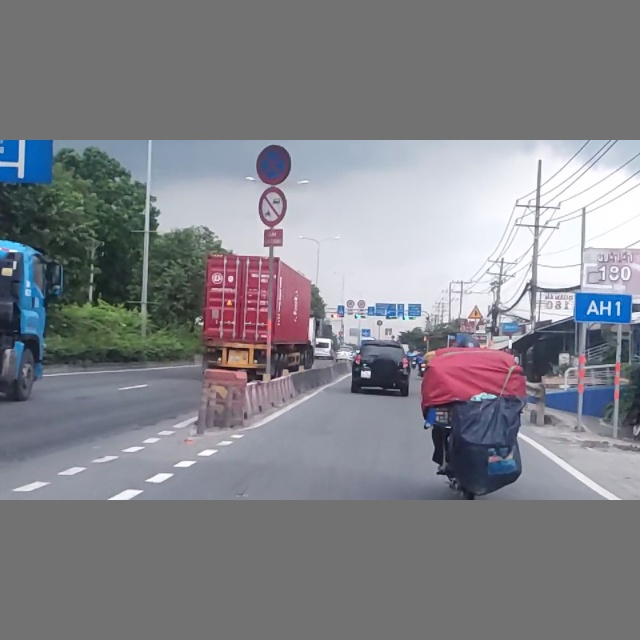P.111: (257, 187, 287, 226)
P.130: (255, 145, 292, 184)
